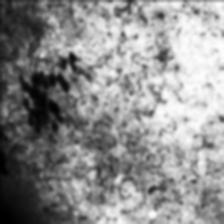Unclassified: (0, 45, 98, 187)
